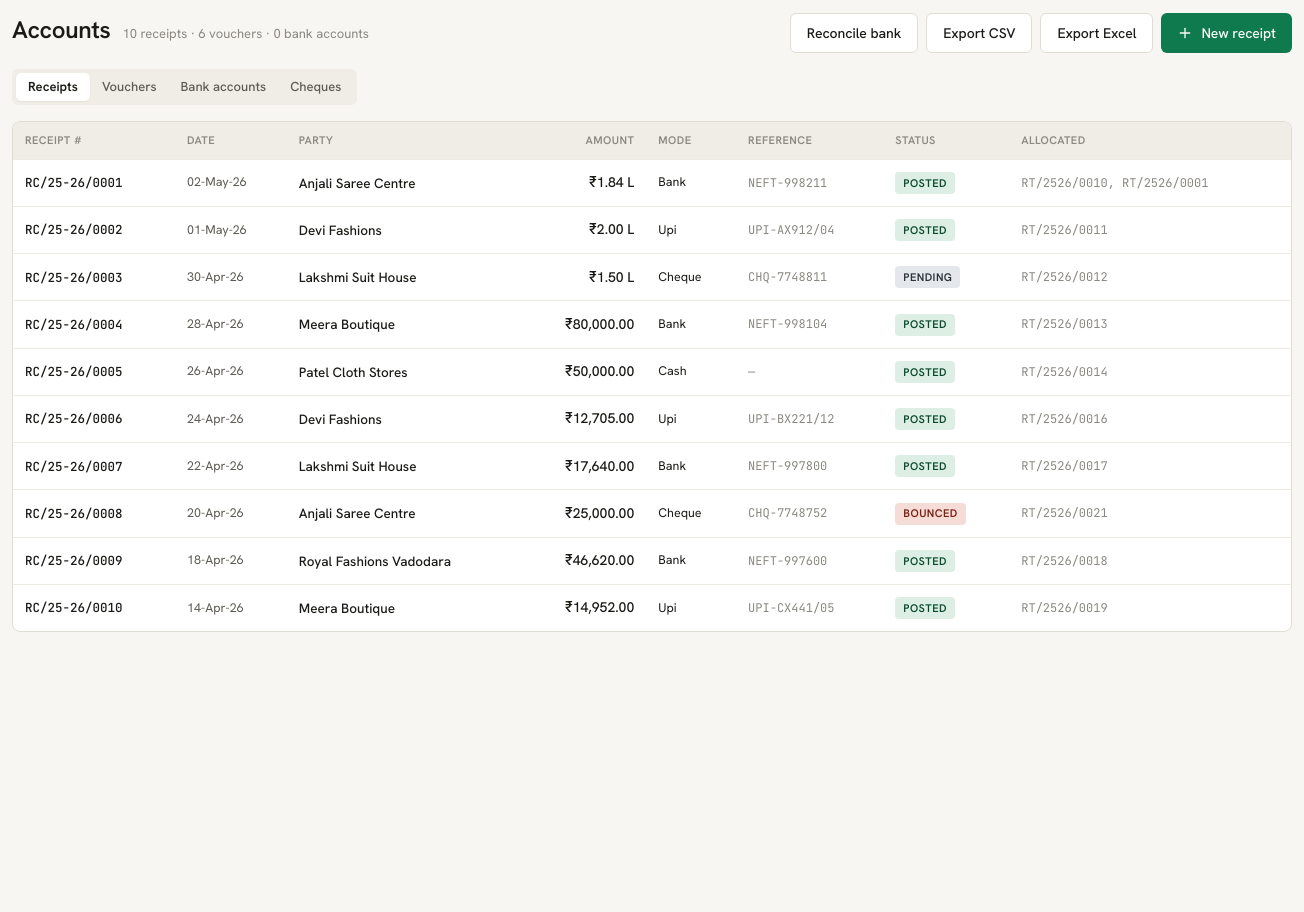
Test: AccountingHub › switches to Vouchers tab and shows balanced markers
Expected: the text "RC/25-26/0001" is shown, x1=25 y1=174 x2=122 y2=191
Click the tab "Vouchers" at (129, 87), box x1=90 y1=73 x2=168 y2=101
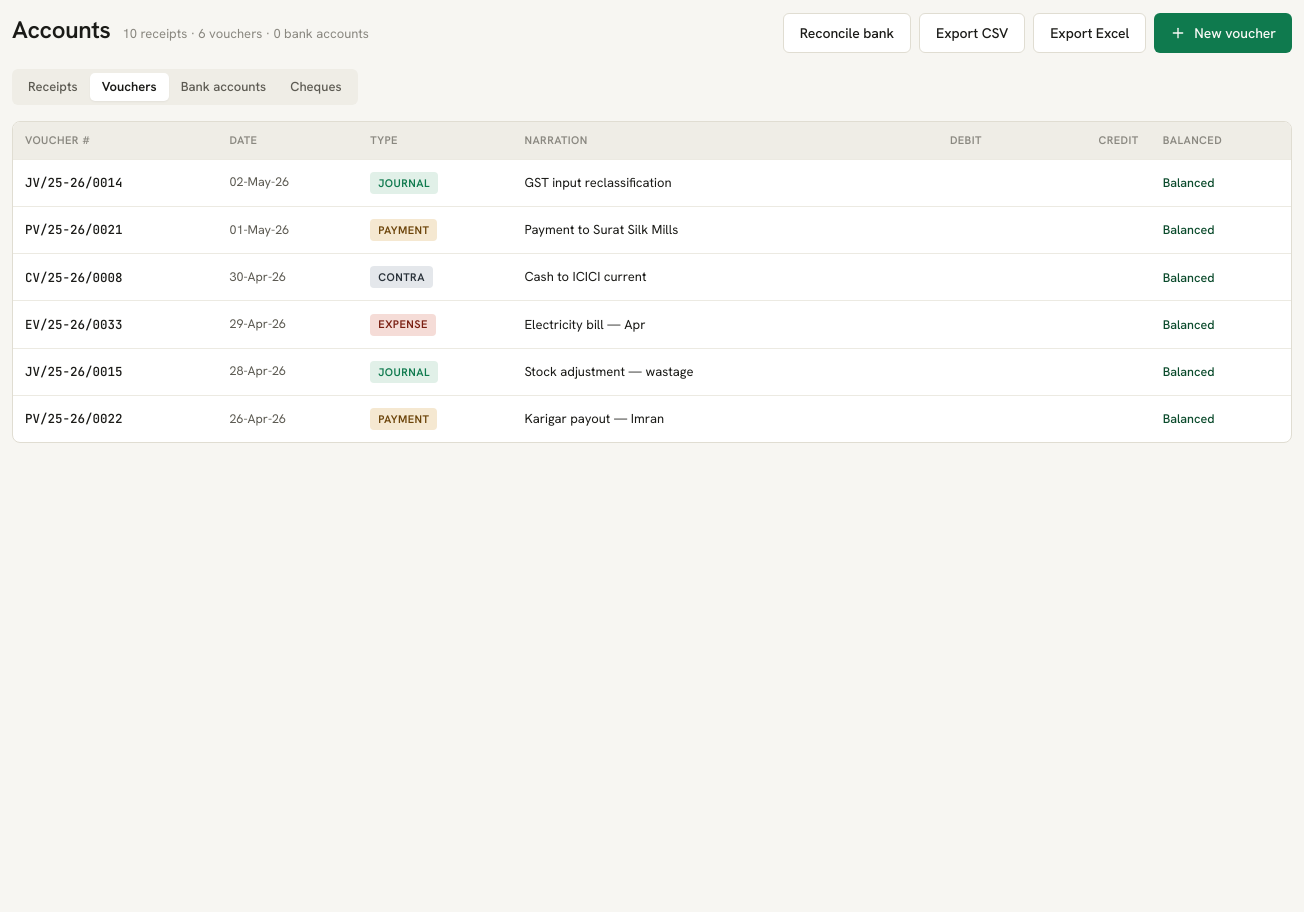
Expected: the text "JV/25-26/0014" is shown, x1=25 y1=174 x2=122 y2=191
